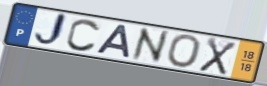A: (94, 23, 132, 60)
C: (65, 17, 103, 53)
J: (32, 11, 69, 48)
N: (130, 26, 171, 64)
O: (165, 33, 203, 69)
X: (197, 36, 239, 77)
